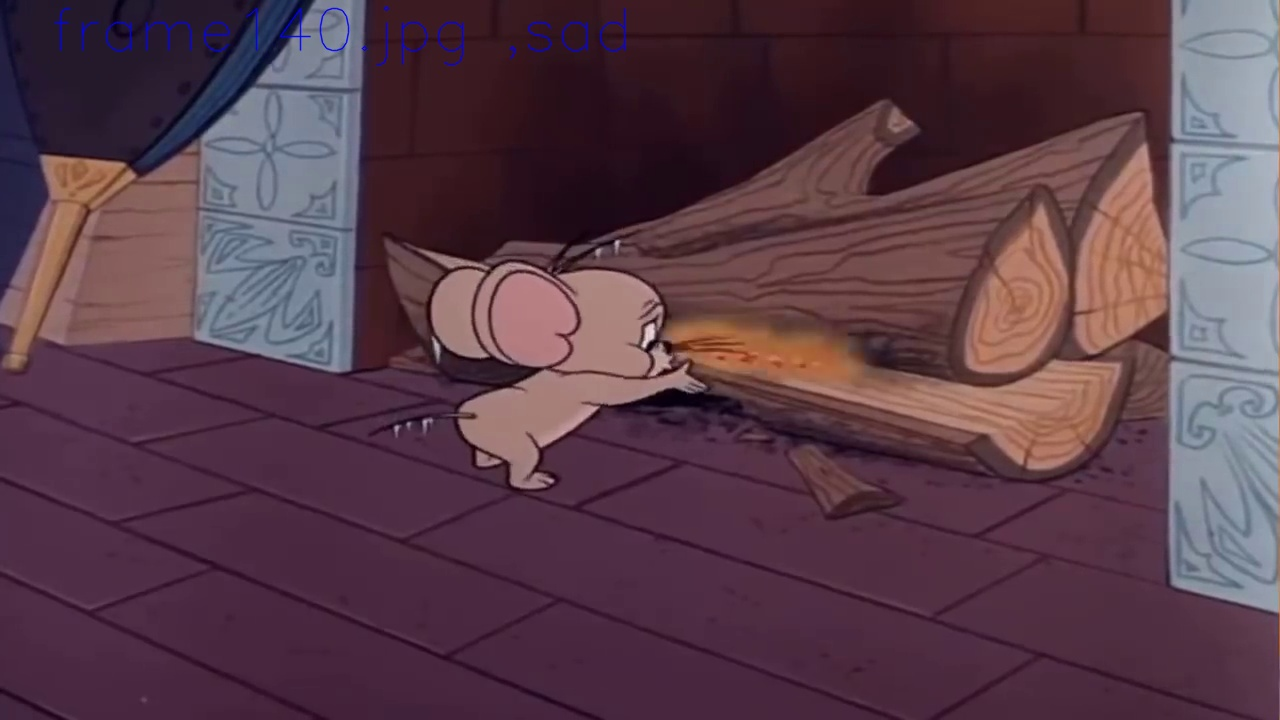sad: (639, 300, 672, 378)
